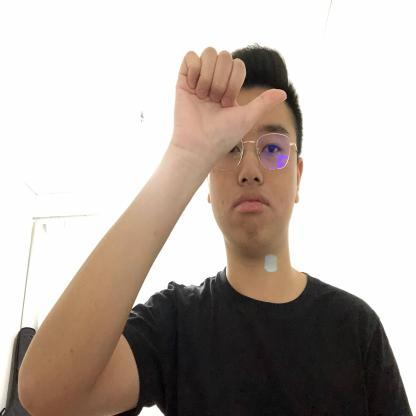left: (171, 44, 288, 163)
